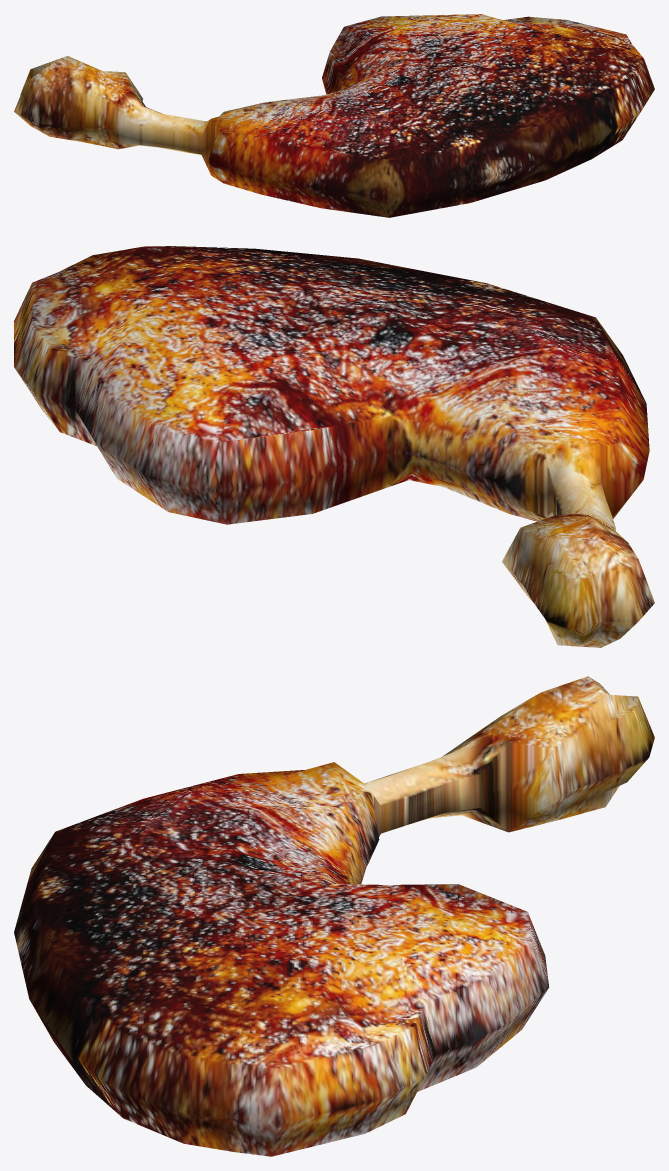
Rendered from fried_chicken_lowpoly.glb.
The picture shows the model from 3 angles, top to bottom: view 1: azimuth 30°, elevation 25°; view 2: azimuth 150°, elevation 25°; view 3: azimuth 270°, elevation 25°; orthographic projection. The views are drawn at different scales.
Parts seen in each view (by area): view 1: base; view 2: base; view 3: base.
Boxes of the visible parts, x1,y1,x2,y2 form: base: (14, 14, 654, 217); base: (14, 246, 654, 647); base: (14, 676, 654, 1156).
Size of the model in its own units: 0.1421 by 0.0207 by 0.0956.
1 material, 1 textured.
